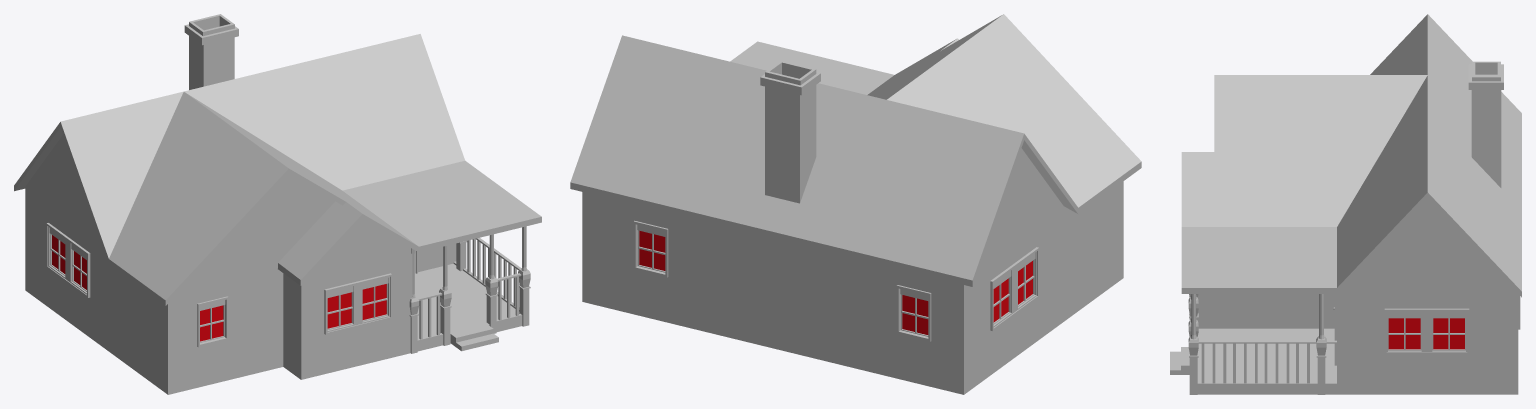
Rendered from SM_ordinary_houses_05.gltf.
The picture shows the model from 3 angles, left to right: view 1: azimuth 30°, elevation 25°; view 2: azimuth 150°, elevation 25°; view 3: azimuth 270°, elevation 25°; orthographic projection. The views are drawn at different scales.
Visible parts, largest first — view 1: ordinary_houses_05; view 2: ordinary_houses_05; view 3: ordinary_houses_05.
Boxes of the visible parts, box(x1,y1,x2,y2) form: ordinary_houses_05: box(14, 14, 541, 394); ordinary_houses_05: box(570, 14, 1141, 394); ordinary_houses_05: box(1170, 14, 1521, 394).
Size of the model in its own units: 12 by 7.55 by 10.
